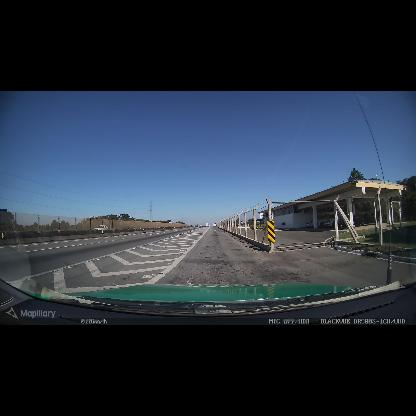O-MP: (267, 221, 275, 243)
